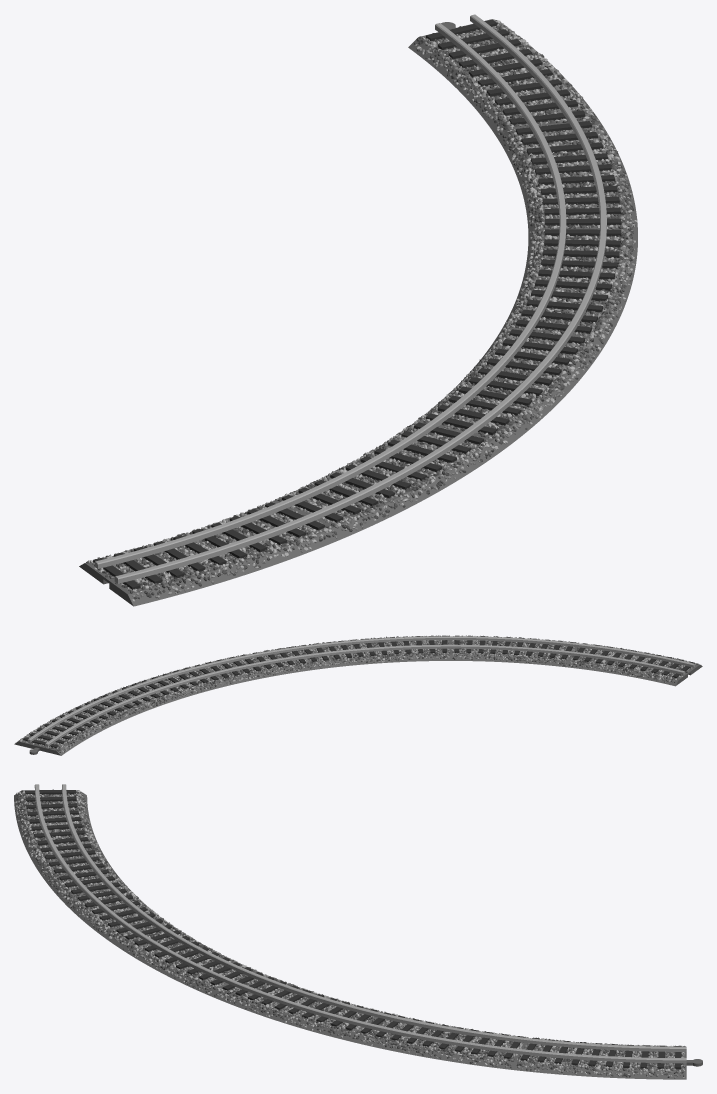
File: Rail_Left_90.obj
3 renders of one model, top to bottom at view 1: azimuth 30°, elevation 25°; view 2: azimuth 150°, elevation 25°; view 3: azimuth 270°, elevation 25°, orthographic. The views are drawn at different scales.
Visible parts, largest first — view 1: Rail_Left_90; view 2: Rail_Left_90; view 3: Rail_Left_90.
Boxes of the visible parts, box(x1,y1,x2,y2) form: Rail_Left_90: box(79, 14, 637, 606); Rail_Left_90: box(14, 635, 702, 755); Rail_Left_90: box(14, 784, 702, 1079).
Bounding box in the file's own units: 4.23 × 0.0821 × 4.33.
1 material, 1 textured.
